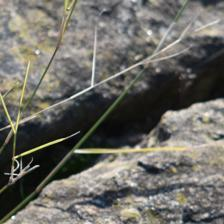Crack: (3, 40, 221, 221)
